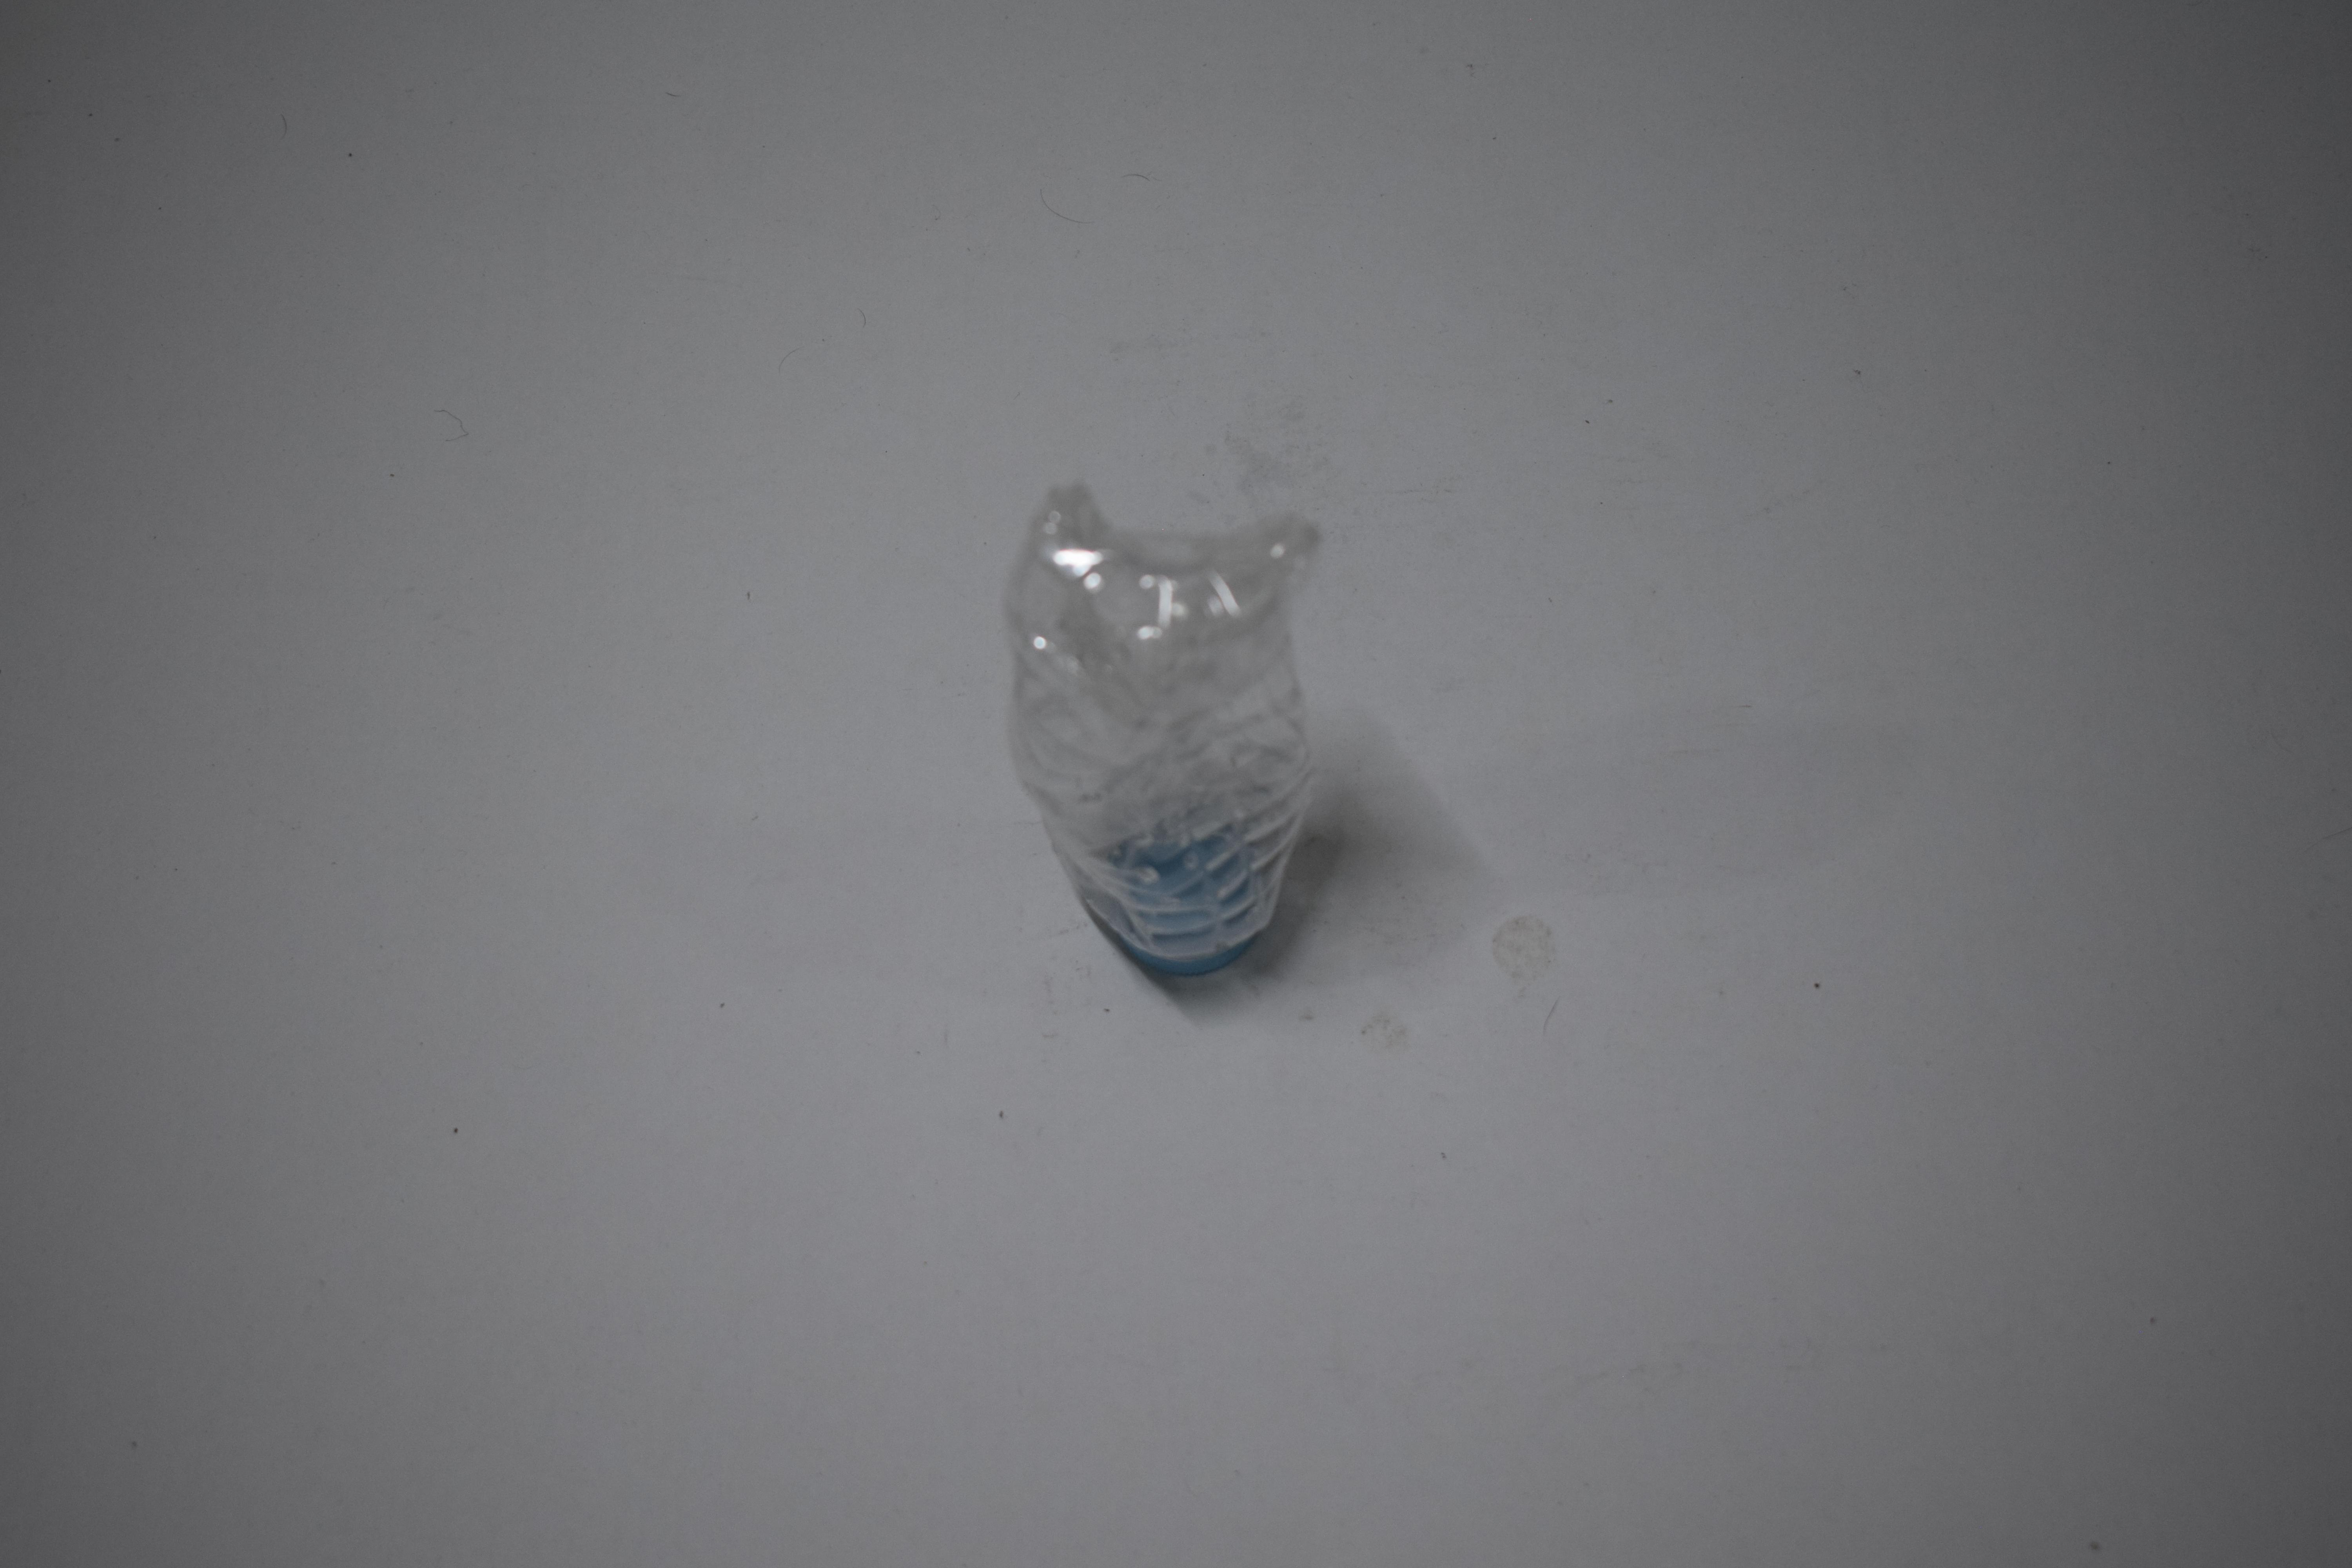bottle: (984, 474, 1321, 987)
